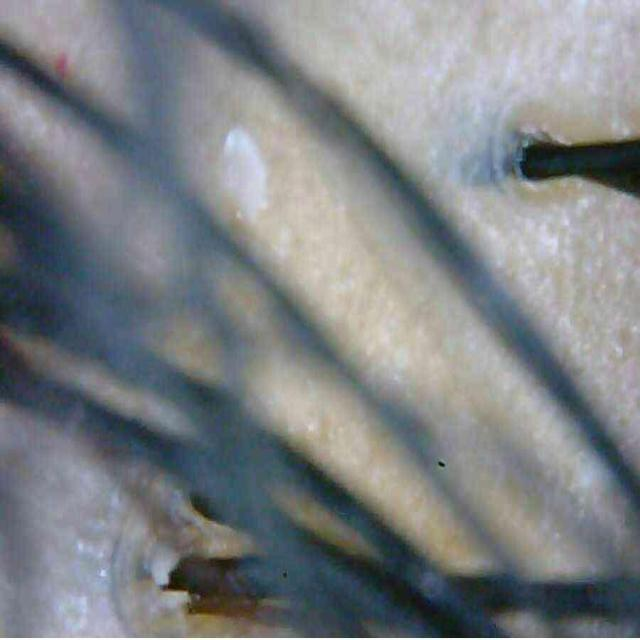d: (220, 119, 269, 229)
